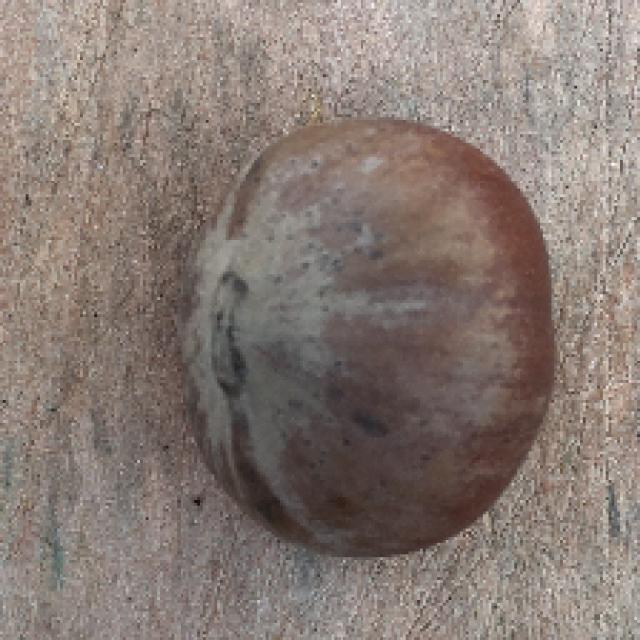DamagedHazelnut: (174, 114, 558, 559)
